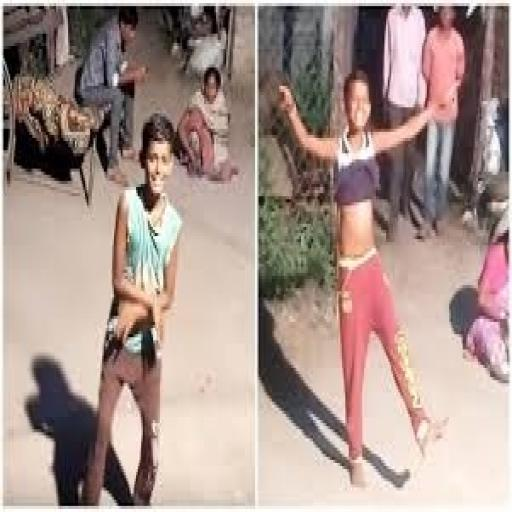dancing: (276, 64, 450, 490), (78, 110, 186, 506)
